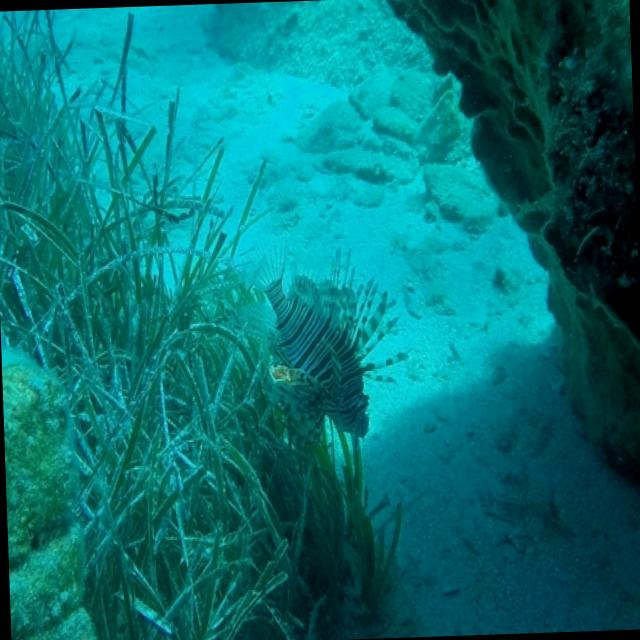Aslan Baligi: (250, 244, 413, 439)
